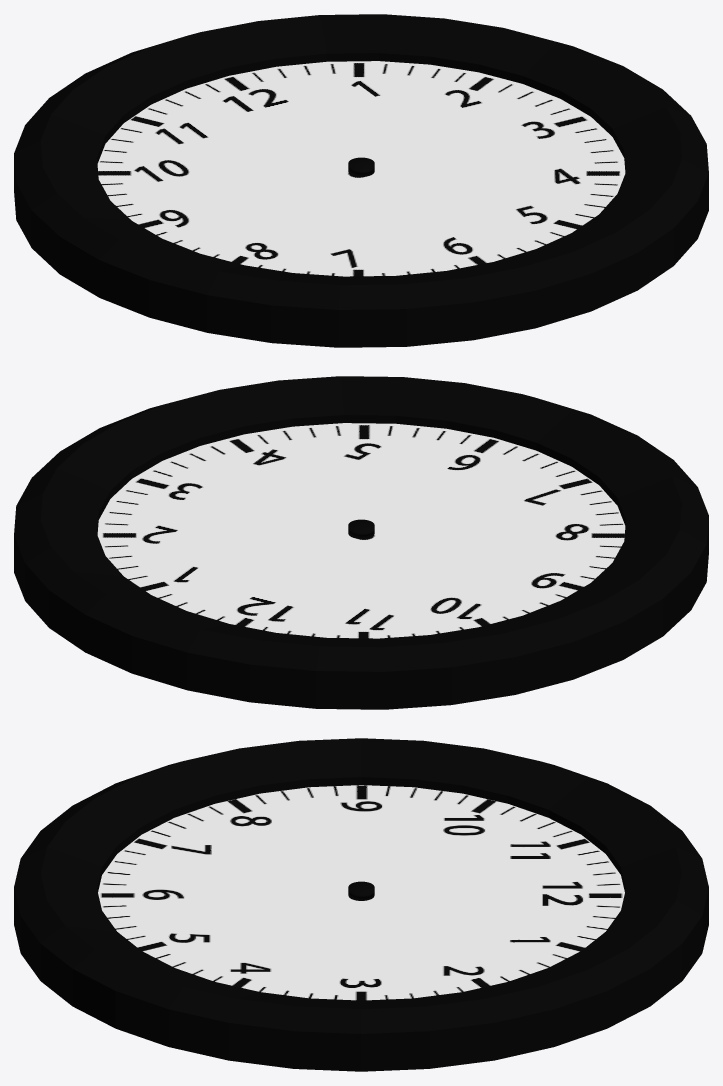
Rendered from paintgreenclock.gltf.
3 renders of one model, top to bottom at view 1: azimuth 30°, elevation 25°; view 2: azimuth 150°, elevation 25°; view 3: azimuth 270°, elevation 25°, orthographic.
Parts seen in each view (by area): view 1: Cylinder; view 2: Cylinder; view 3: Cylinder.
Boxes of the visible parts, x1=… form: Cylinder: x1=14, y1=14, x2=708, y2=347; Cylinder: x1=14, y1=376, x2=708, y2=709; Cylinder: x1=14, y1=738, x2=708, y2=1071.
Size of the model in its own units: 2.56 by 0.208 by 2.56.
Materials: 2 (1 with a texture image).
